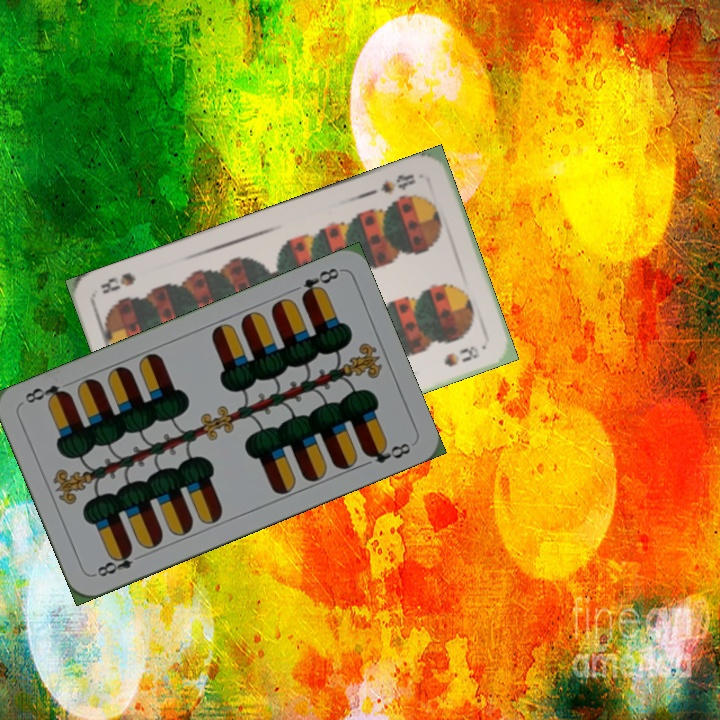E8: (90, 545, 147, 580), (297, 263, 342, 302)
S8: (376, 170, 418, 197)
